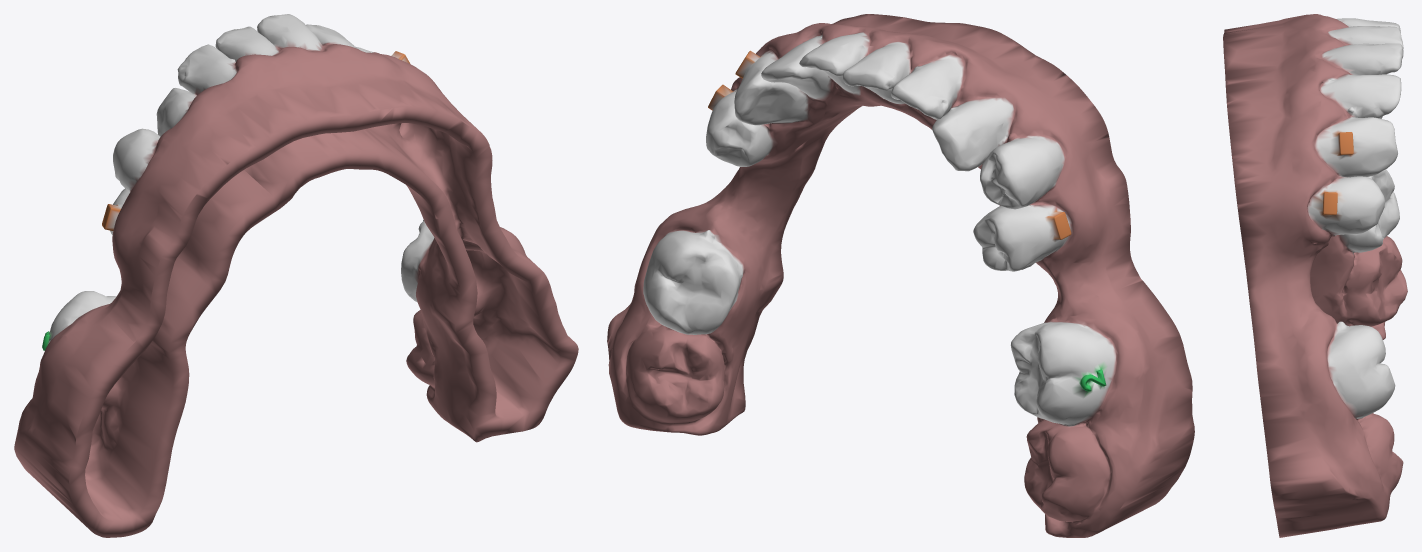
File: lower-model-2.glb
3 views of the same model, side by side, from view 1: azimuth 30°, elevation 25°; view 2: azimuth 150°, elevation 25°; view 3: azimuth 270°, elevation 25° (orthographic). The views are drawn at different scales.
Visible parts, largest first — view 1: 2 (1); view 2: 2 (1); view 3: 2 (1).
Boxes of the visible parts, x1,y1,x2,y2 form: 2 (1): (14,14,578,537); 2 (1): (607,14,1194,537); 2 (1): (1223,14,1407,537).
Size of the model in its own units: 64.23 by 49.93 by 20.71.
